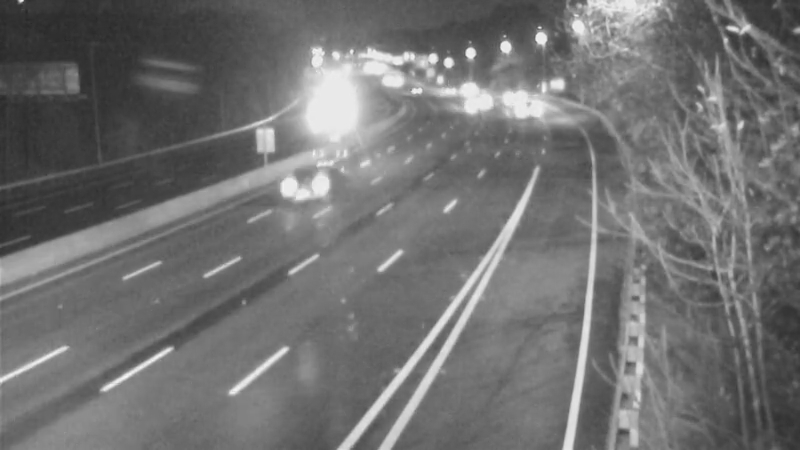vehicle: (255, 144, 335, 224), (486, 69, 536, 119), (456, 78, 506, 128), (501, 85, 551, 135), (299, 89, 349, 139)
